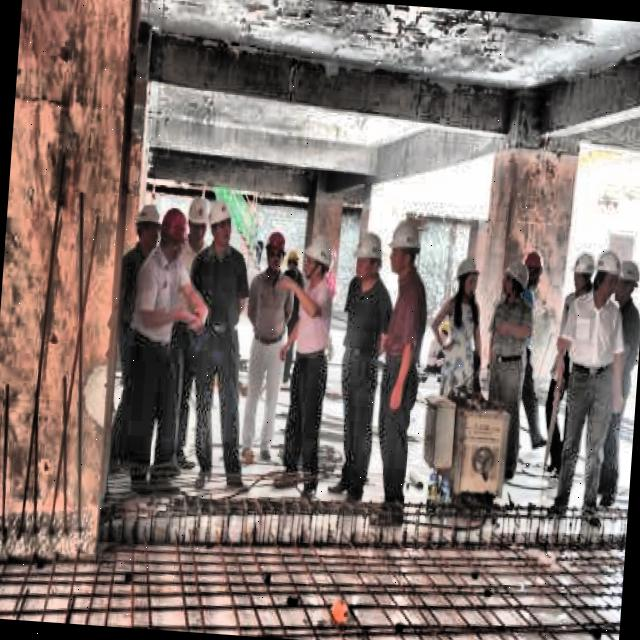helmet: (385, 212, 426, 287), (354, 228, 386, 290), (300, 230, 338, 278), (130, 198, 162, 255), (158, 207, 189, 257), (594, 245, 620, 304), (206, 196, 233, 252), (498, 258, 529, 306), (454, 254, 485, 301), (567, 248, 597, 296), (260, 227, 290, 274), (186, 190, 210, 245), (617, 252, 640, 309), (524, 248, 546, 290)
